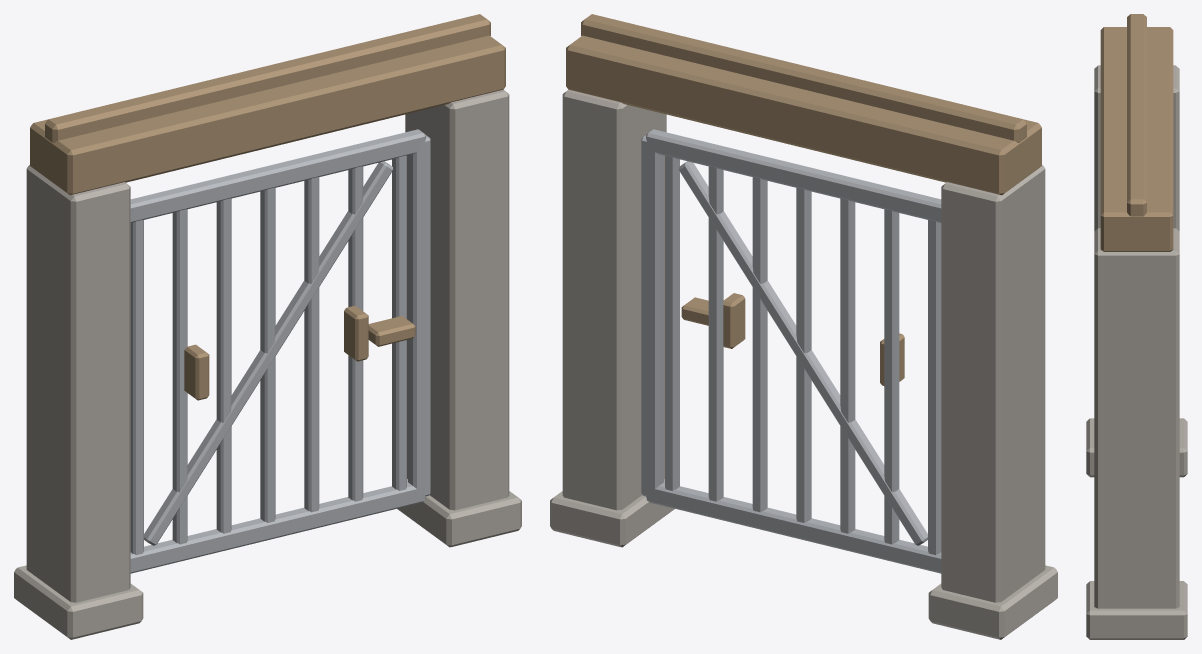
File: gate.glb
3 views of the same model, side by side, from view 1: azimuth 30°, elevation 25°; view 2: azimuth 150°, elevation 25°; view 3: azimuth 270°, elevation 25° (orthographic). The views are drawn at different scales.
Parts seen in each view (by area): view 1: gate; view 2: gate; view 3: gate.
Boxes of the visible parts, <box> form: gate: <box>14,14,521,639</box>; gate: <box>550,14,1057,639</box>; gate: <box>1086,14,1187,639</box>.
Bounding box in the file's own units: 2.28 × 2.38 × 0.5.
